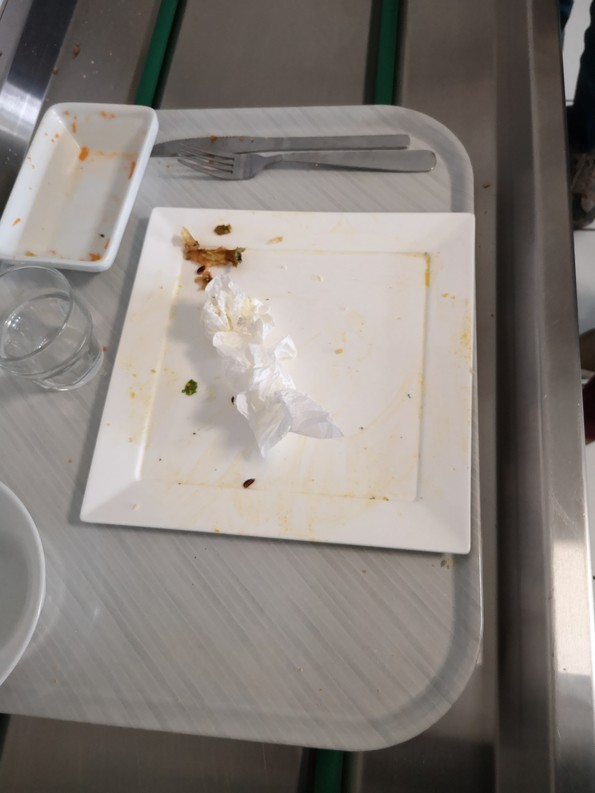cup: (1, 267, 107, 390)
cutlery: (145, 122, 471, 198)
trash: (194, 284, 337, 451)
